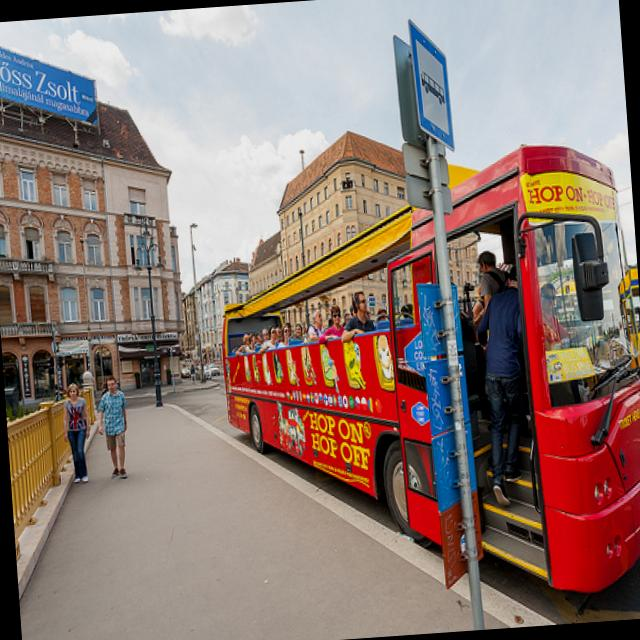Vehicle: (212, 138, 640, 619), (194, 364, 212, 378), (206, 362, 218, 376), (180, 368, 190, 378)
